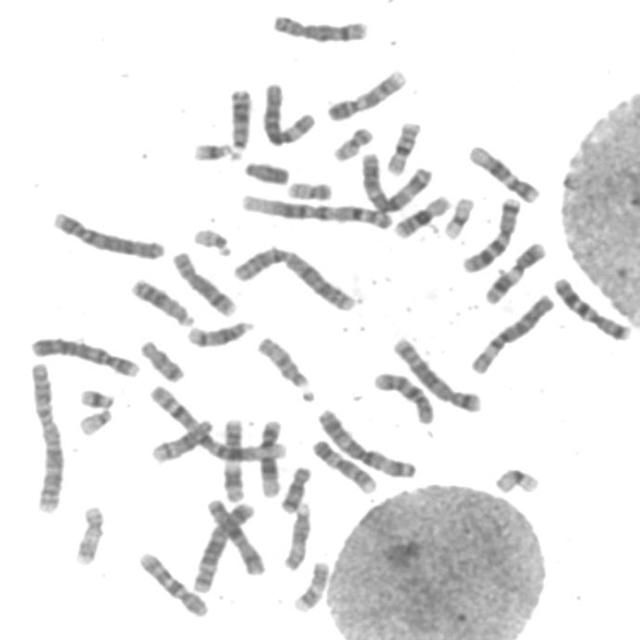A1: (146, 377, 292, 464), (235, 186, 395, 231)
A2: (227, 240, 359, 312), (22, 354, 66, 514)
A3: (310, 401, 418, 480), (356, 145, 434, 215)
B4: (46, 206, 167, 262), (25, 330, 142, 379)
B5: (387, 330, 484, 414), (186, 495, 256, 594)
C10: (132, 546, 212, 619), (368, 365, 438, 426)
C11: (479, 236, 549, 306), (217, 412, 247, 504)
C12: (463, 138, 542, 204), (252, 414, 285, 498)
C6: (463, 288, 557, 376), (256, 76, 318, 146)
C7: (547, 270, 634, 342), (456, 191, 523, 273)
C8: (166, 245, 239, 318), (266, 8, 370, 43)
C9: (322, 62, 409, 122), (306, 434, 378, 494)
D13: (126, 272, 197, 327), (223, 80, 253, 161)
D14: (145, 412, 217, 464), (181, 314, 257, 348)
D15: (250, 330, 316, 400), (277, 497, 314, 572)
E16: (388, 188, 453, 240), (380, 115, 423, 177)
E17: (287, 555, 332, 614), (68, 499, 106, 567)
E18: (133, 333, 187, 384), (274, 459, 314, 514)
F19: (488, 460, 542, 496), (438, 191, 476, 240)
F20: (327, 119, 376, 163), (281, 175, 334, 202)
G21: (186, 135, 238, 163), (73, 382, 116, 410)
G22: (188, 222, 234, 257), (72, 402, 115, 437)
X: (200, 493, 267, 577)
Y: (237, 155, 291, 186)
